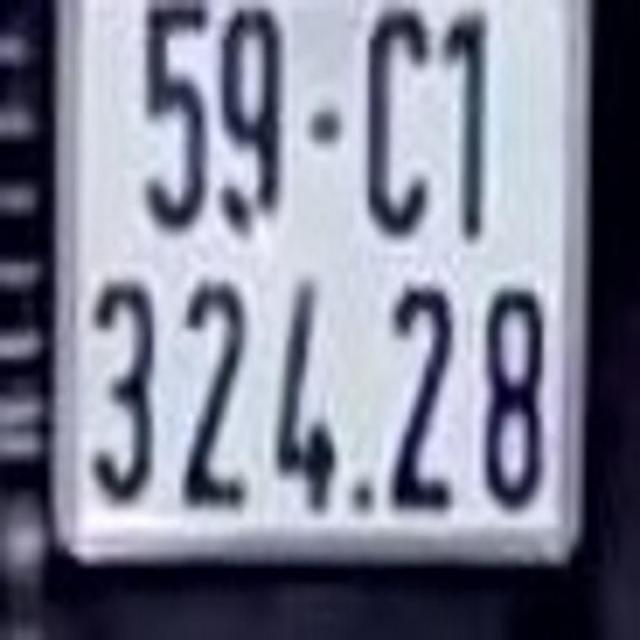1: (434, 0, 498, 245)
2: (168, 268, 251, 511), (382, 267, 459, 520)
3: (87, 263, 158, 507)
4: (268, 265, 338, 522)
5: (136, 1, 215, 233)
8: (480, 268, 551, 524)
9: (218, 1, 285, 241)
C: (359, 3, 430, 239)
